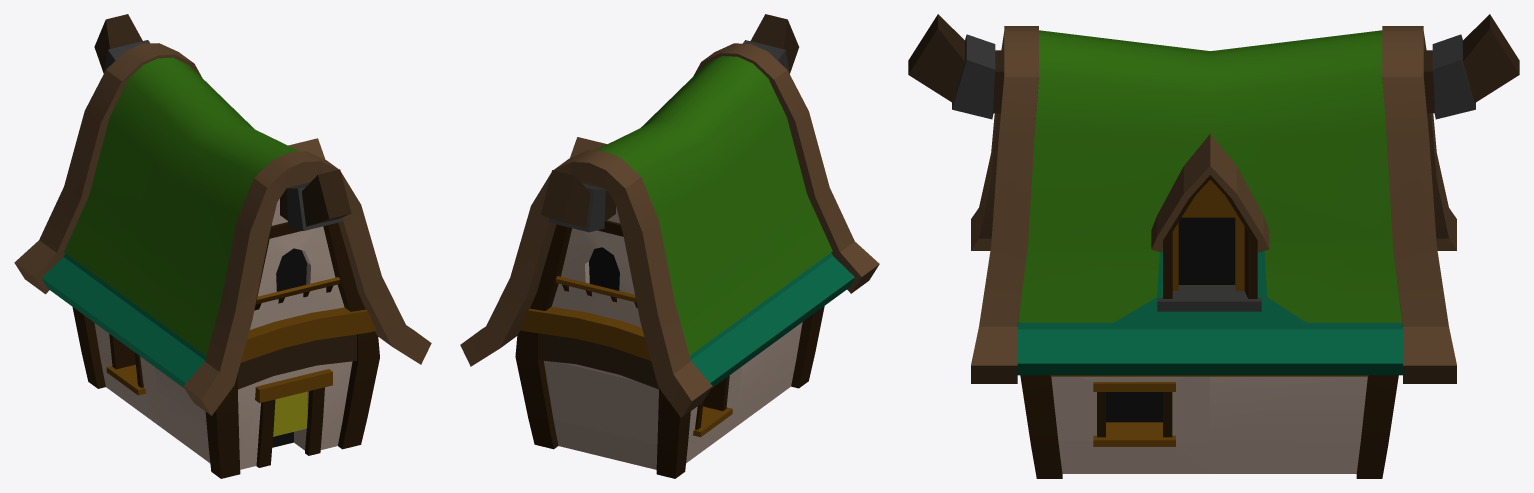
The model's file is House_v1.2.fbx.
3 views of the same model, side by side, from view 1: azimuth 30°, elevation 25°; view 2: azimuth 150°, elevation 25°; view 3: azimuth 270°, elevation 25° (orthographic). The views are drawn at different scales.
Parts seen in each view (by area): view 1: RoofLeaf_LRes, Roof_LRes, House1_LRes, HouseBeams_LRes, MidBeams_LRes, RoofBeam_LRes, DoorFrame_LRes, WindowFrame_LRes, Curtain_LRes, WindowFence_LRes; view 2: RoofLeaf_LRes, Roof_LRes, House1_LRes, HouseBeams_LRes, MidBeams_LRes, RoofBeam_LRes, WindowFrame_LRes, WindowFence_LRes; view 3: RoofLeaf_LRes, Roof_LRes, House1_LRes, RoofWindow_LRes, RoofBeam_LRes, HouseBeams_LRes, WindowFrame_LRes, RoofDeco_LRes.
Boxes of the visible parts, box(x1,y1,x2,y2) form: RoofLeaf_LRes: box(64, 57, 299, 355); Roof_LRes: box(14, 43, 431, 415); House1_LRes: box(94, 198, 352, 469); HouseBeams_LRes: box(72, 222, 379, 478); MidBeams_LRes: box(238, 307, 376, 389); RoofBeam_LRes: box(94, 14, 351, 230); DoorFrame_LRes: box(255, 369, 332, 467); WindowFrame_LRes: box(106, 334, 145, 395); Curtain_LRes: box(273, 391, 307, 436); WindowFence_LRes: box(254, 277, 340, 310); RoofLeaf_LRes: box(595, 56, 832, 355); Roof_LRes: box(460, 43, 879, 417); House1_LRes: box(544, 206, 802, 469); HouseBeams_LRes: box(515, 220, 824, 478); MidBeams_LRes: box(519, 306, 658, 389); RoofBeam_LRes: box(540, 14, 799, 232); WindowFrame_LRes: box(693, 375, 732, 437); WindowFence_LRes: box(555, 276, 637, 308); RoofLeaf_LRes: box(1018, 30, 1402, 322); Roof_LRes: box(971, 26, 1456, 383); House1_LRes: box(1051, 376, 1367, 473); RoofWindow_LRes: box(1151, 133, 1269, 311); RoofBeam_LRes: box(908, 14, 1519, 119); HouseBeams_LRes: box(1020, 375, 1398, 478); WindowFrame_LRes: box(1093, 382, 1175, 446); RoofDeco_LRes: box(1050, 375, 1368, 376).
Size of the model in its own units: 6.82 by 8.98 by 12.03.
